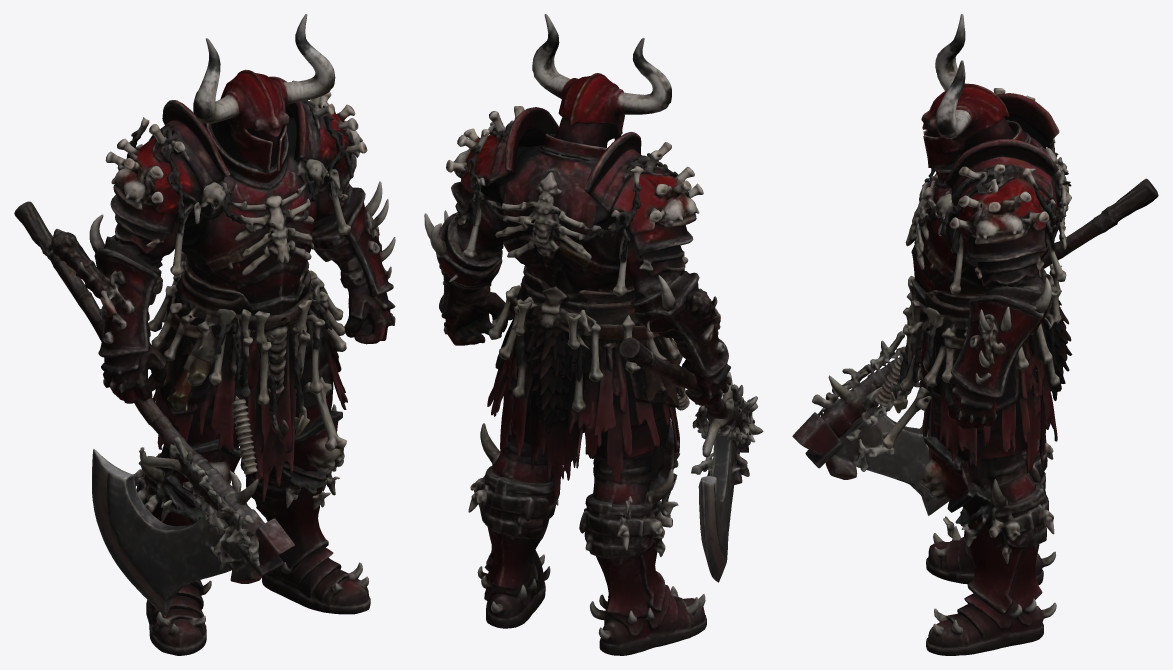
The model's file is batch2_13_sample_2026-09-26T001132.878.glb.
3 views of the same model, side by side, from view 1: azimuth 30°, elevation 25°; view 2: azimuth 150°, elevation 25°; view 3: azimuth 270°, elevation 25° (orthographic). The views are drawn at different scales.
Visible parts, largest first — view 1: world; view 2: world; view 3: world.
Boxes of the visible parts, bbox=[...] form: world: bbox=[14, 14, 395, 655]; world: bbox=[424, 14, 763, 655]; world: bbox=[792, 14, 1158, 655].
Bounding box in the file's own units: 0.544 × 1 × 0.5824.
Materials: 1 (1 with a texture image).
